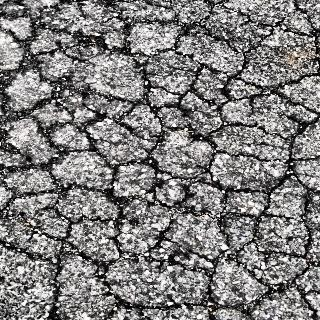alligator-crack: (1, 4, 320, 320)
